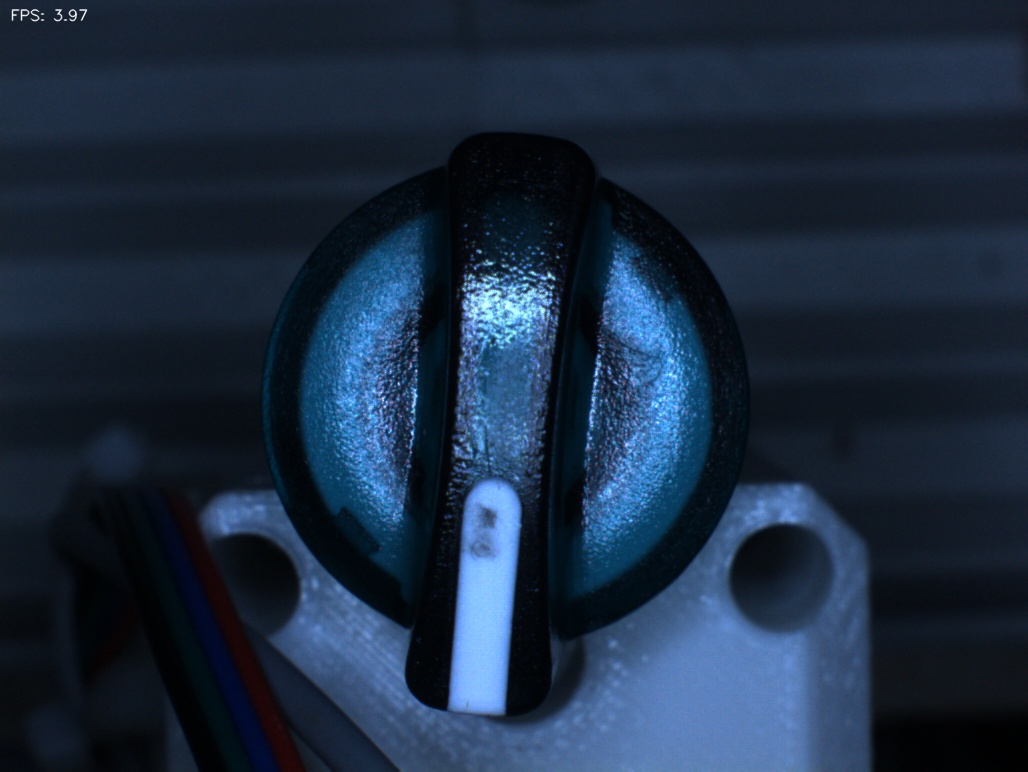PointNoir: (433, 477, 536, 579)
